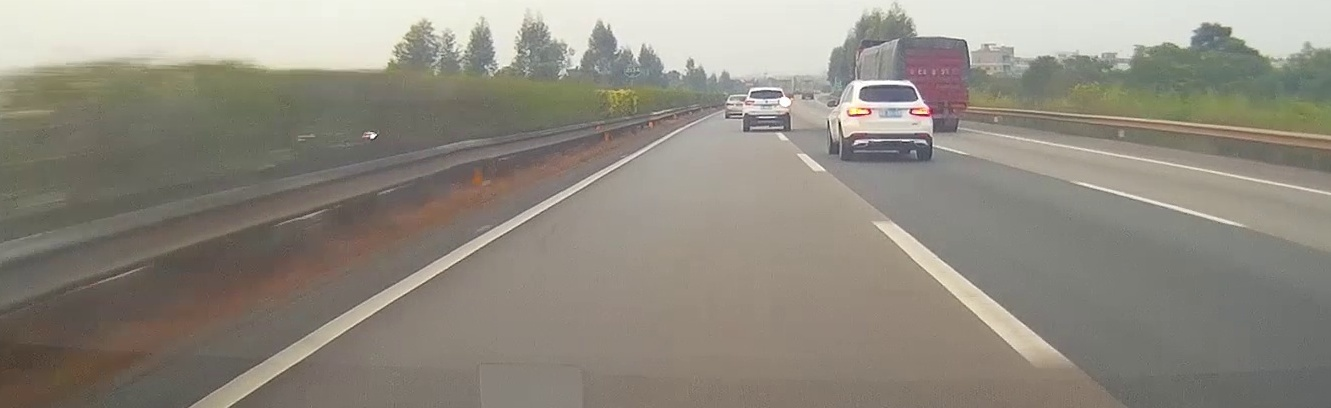L_light: (847, 108, 872, 116), (744, 100, 755, 106)
R_light: (910, 108, 931, 116), (778, 99, 788, 105)
T_light: (881, 82, 892, 85), (761, 89, 771, 91)
day-no: (841, 79, 933, 160)
day-right: (742, 86, 791, 131)
